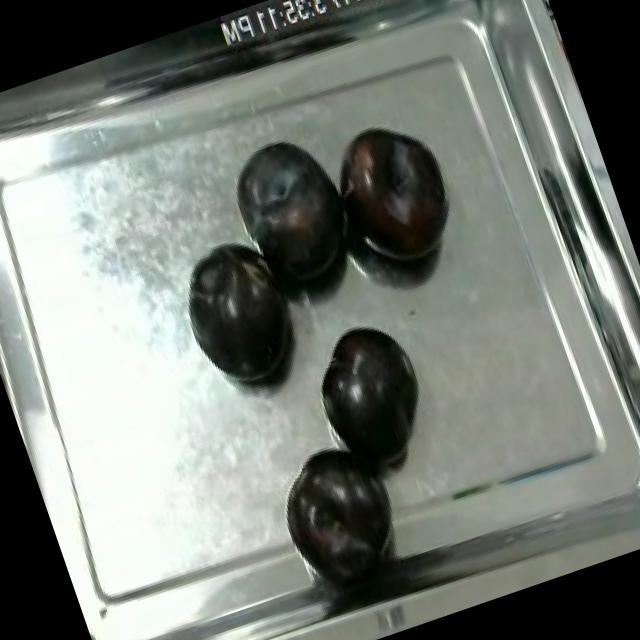Fruit: (218, 118, 373, 305), (318, 109, 471, 283), (167, 230, 311, 406), (302, 307, 442, 471), (272, 431, 402, 575)
